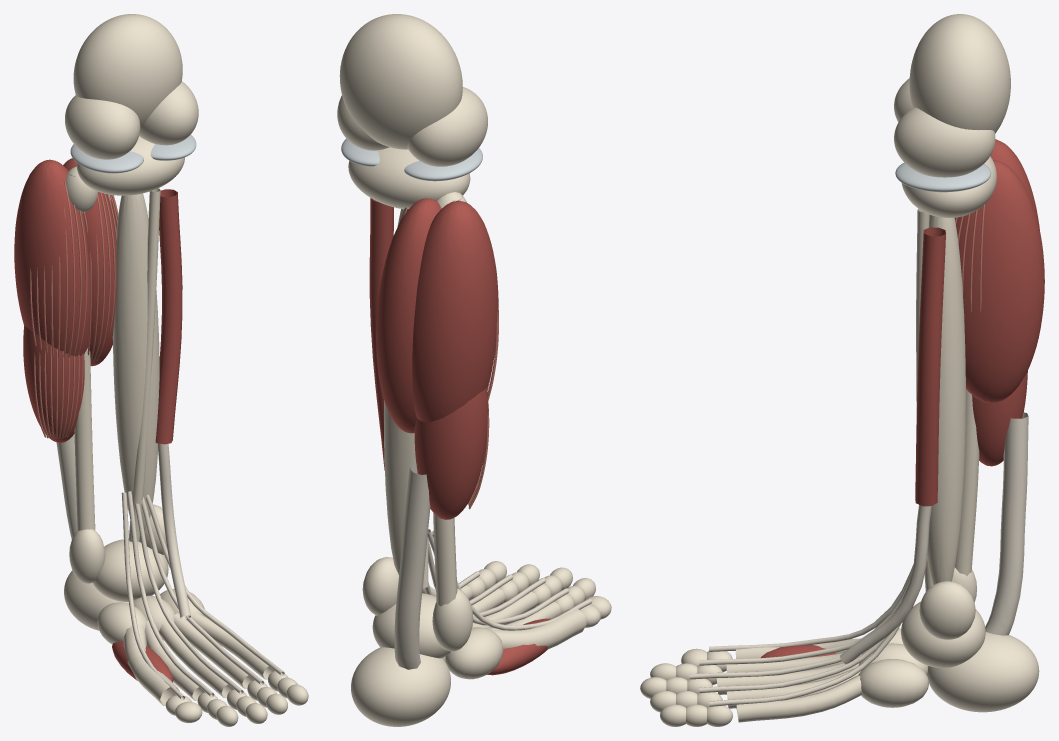
Rendered from reference-leg.glb.
3 renders of one model, left to right at view 1: azimuth 30°, elevation 25°; view 2: azimuth 150°, elevation 25°; view 3: azimuth 270°, elevation 25°, orthographic. The views are drawn at different scales.
Visible parts, largest first — view 1: Distal femur; view 2: Distal femur; view 3: Distal femur.
Part boxes in pixels (x1,y1,x2,y2): Distal femur: (14,14,308,726); Distal femur: (337,14,611,726); Distal femur: (640,14,1044,726).
Bounding box in the file's own units: 0.6924 × 2.71 × 1.43.
